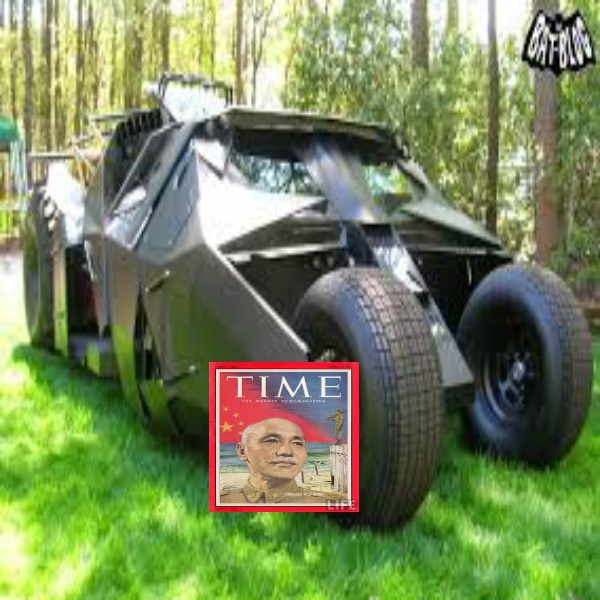time_cover: (202, 355, 357, 518)
